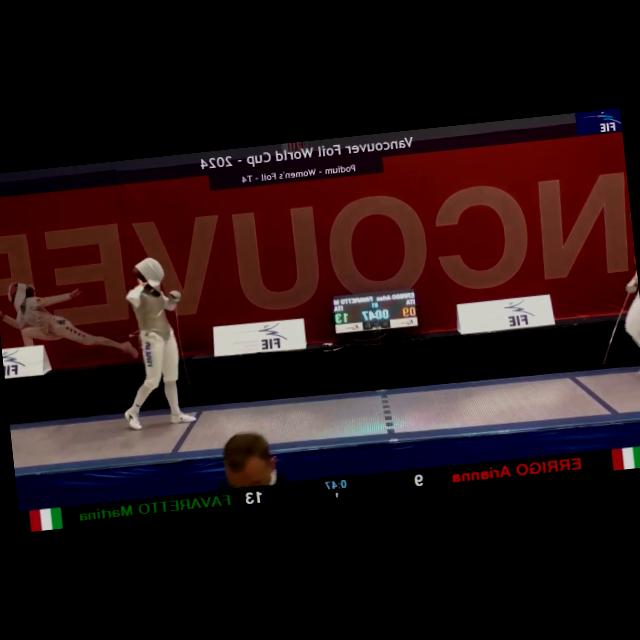blade: (593, 281, 640, 365), (165, 284, 192, 390)
